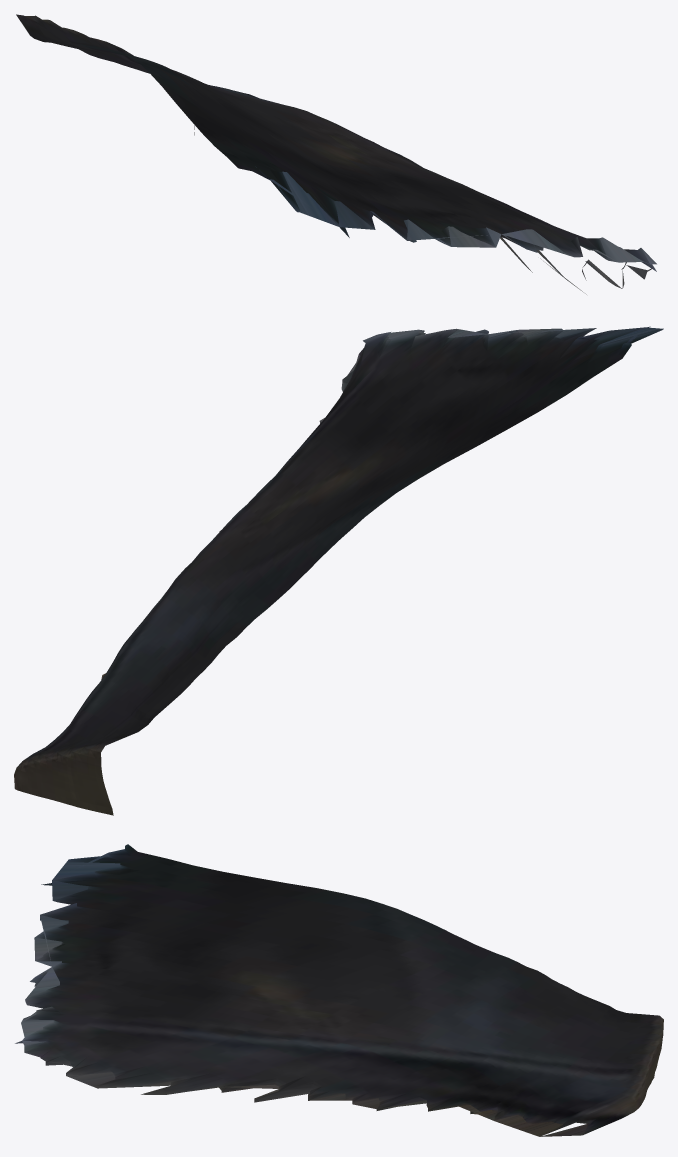
Rendered from observed-surface.glb.
3 views of the same model, one above another, from view 1: azimuth 30°, elevation 25°; view 2: azimuth 150°, elevation 25°; view 3: azimuth 270°, elevation 25° (orthographic). The views are drawn at different scales.
Visible parts, largest first — view 1: geometry_0; view 2: geometry_0; view 3: geometry_0.
Boxes of the visible parts, x1,y1,x2,y2 form: geometry_0: [16, 14, 656, 294]; geometry_0: [14, 326, 663, 815]; geometry_0: [15, 844, 663, 1136].
Size of the model in its own units: 0.4873 by 0.4001 by 1.15.
1 material, 1 textured.
